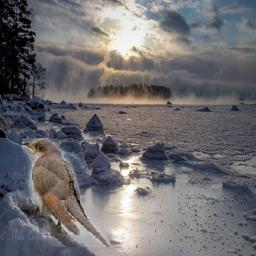Cuckoo: (22, 139, 110, 248)
